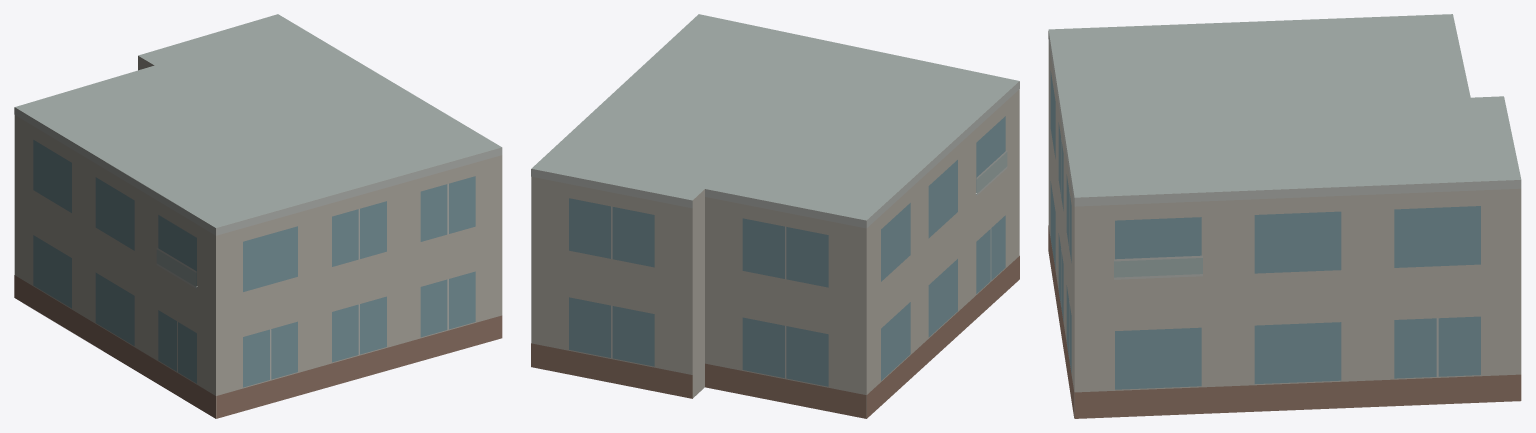
The model's file is survey-upis-32822408.glb.
3 views of the same model, side by side, from view 1: azimuth 30°, elevation 25°; view 2: azimuth 150°, elevation 25°; view 3: azimuth 270°, elevation 25° (orthographic). The views are drawn at different scales.
Parts seen in each view (by area): view 1: survey-upis-32822408.tmp; view 2: survey-upis-32822408.tmp; view 3: survey-upis-32822408.tmp.
Part boxes in pixels (left/top/right/bottom): survey-upis-32822408.tmp: left=14, top=14, right=502, bottom=418; survey-upis-32822408.tmp: left=531, top=14, right=1019, bottom=418; survey-upis-32822408.tmp: left=1048, top=14, right=1521, bottom=418.
Bounding box in the file's own units: 10.88 × 6.1 × 11.83.
